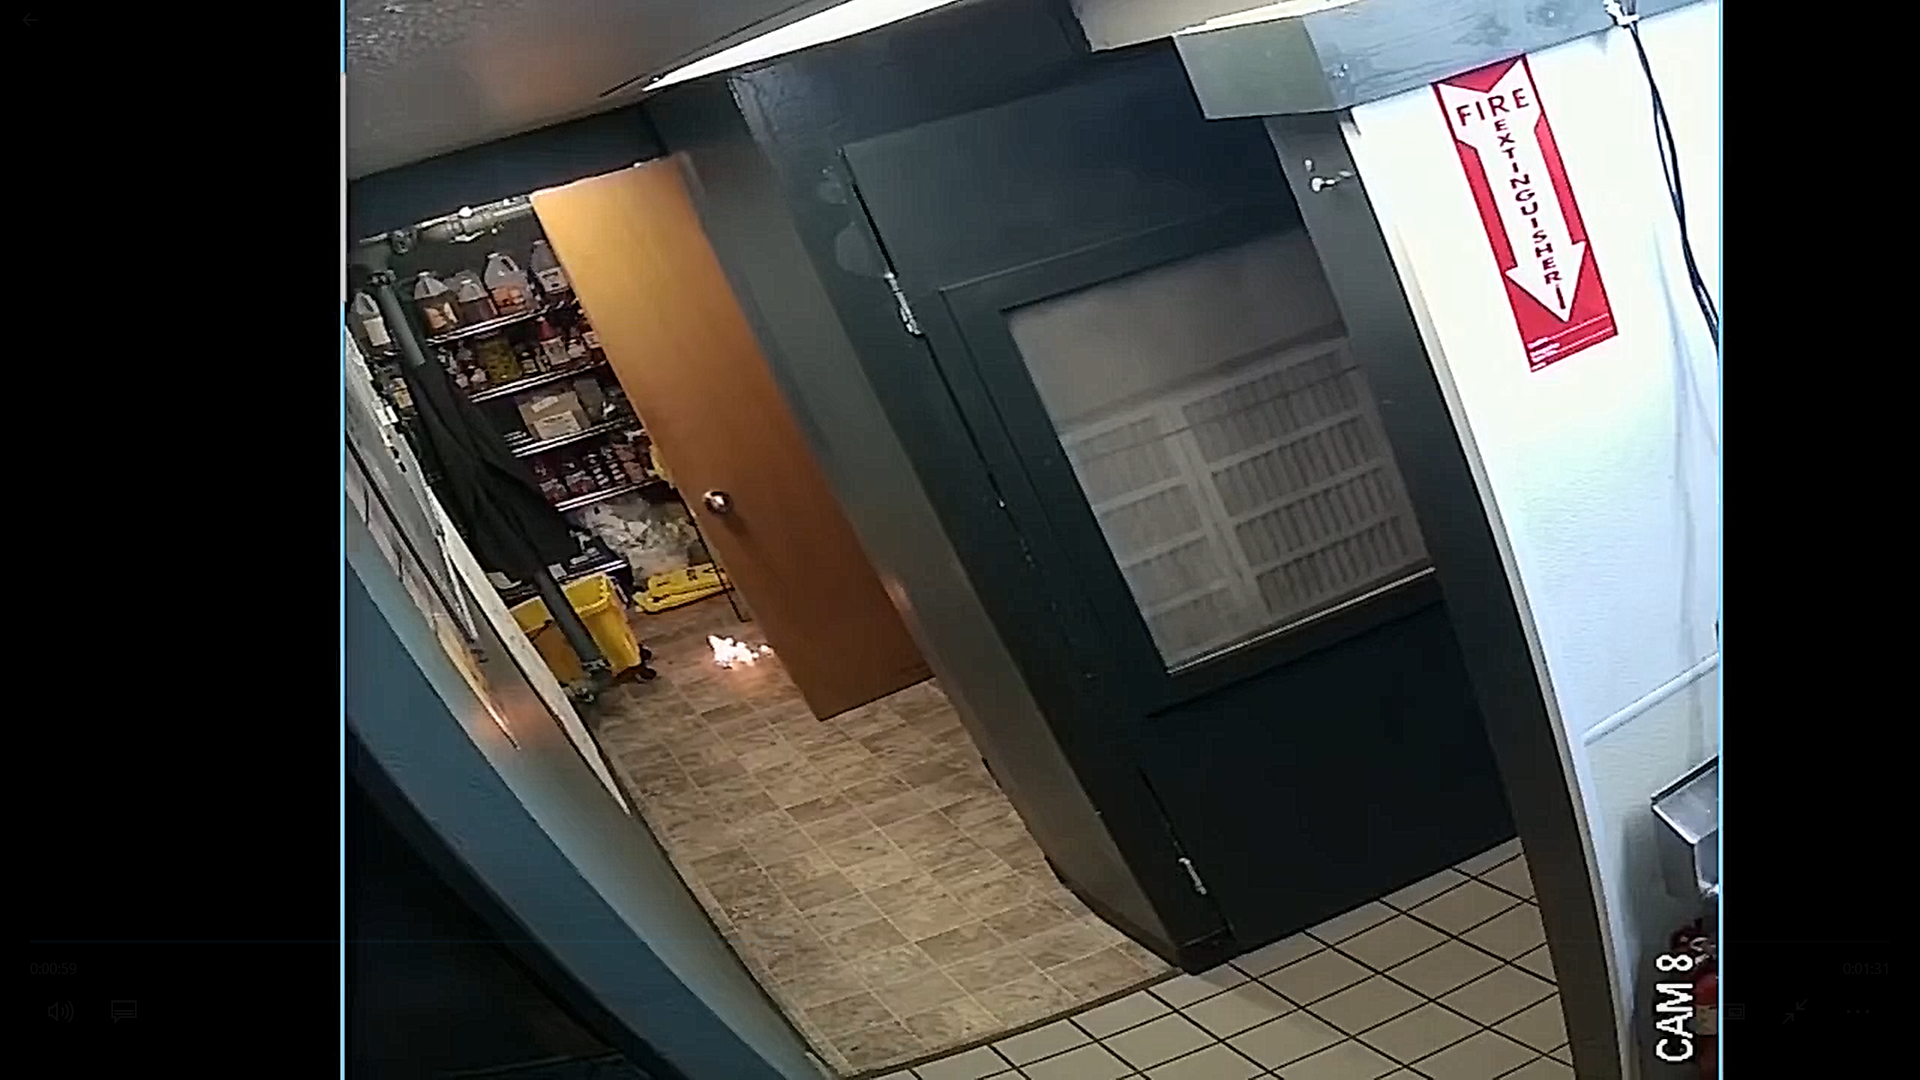fire: (702, 632, 794, 684)
